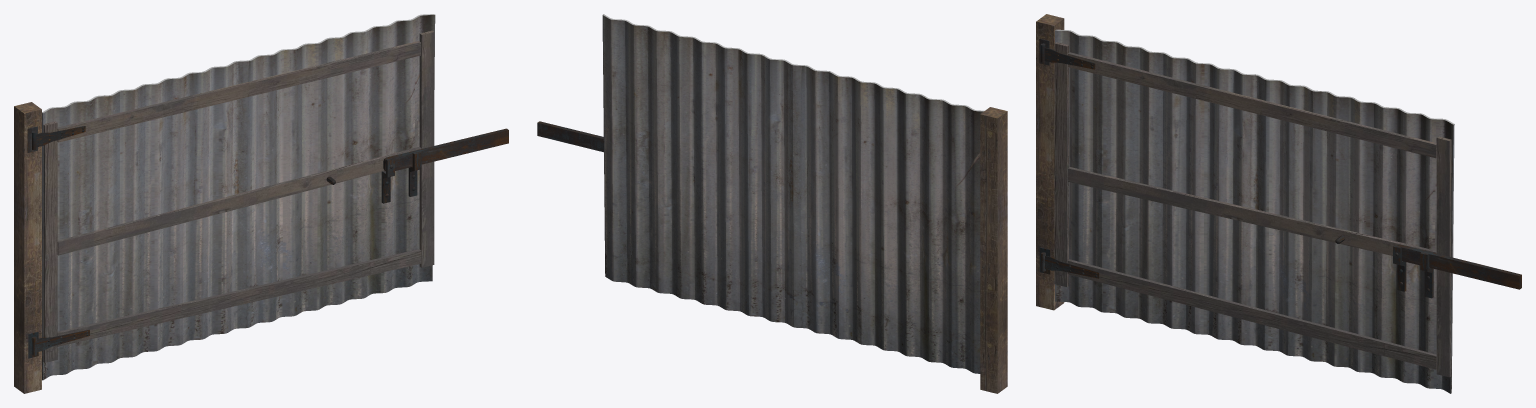
The model's file is fence_doorpostleft.fbx.
The picture shows the model from 3 angles, left to right: view 1: azimuth 30°, elevation 25°; view 2: azimuth 150°, elevation 25°; view 3: azimuth 330°, elevation 25°; orthographic projection. The views are drawn at different scales.
Parts seen in each view (by area): view 1: fence_doorpostleft; view 2: fence_doorpostleft; view 3: fence_doorpostleft.
Boxes of the visible parts, box(x1,y1,x2,y2) form: fence_doorpostleft: box(14, 14, 508, 393); fence_doorpostleft: box(537, 14, 1007, 393); fence_doorpostleft: box(1036, 14, 1521, 393).
Bounding box in the file's own units: 4.78 × 2.67 × 0.2952.
Materials: 3 (3 with a texture image).
